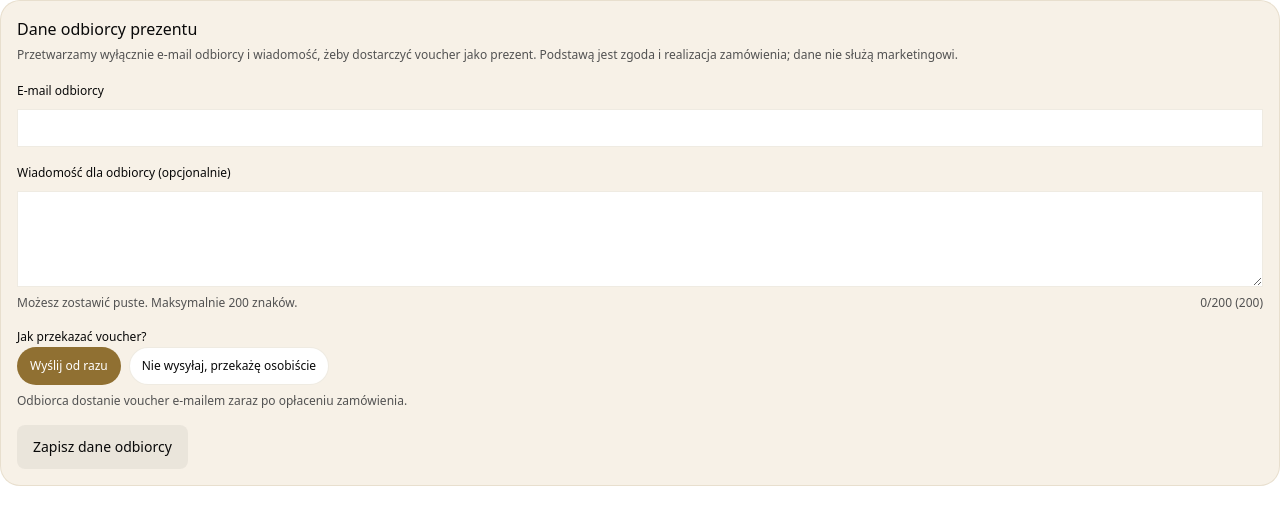
GiftRecipientForm — render (AC4) › switching to "handover" flips aria-pressed and the hint — copy never mentions a date
Click the button with test id "gift-recipient-send-handover" at (229, 366), box x1=129 y1=347 x2=329 y2=385
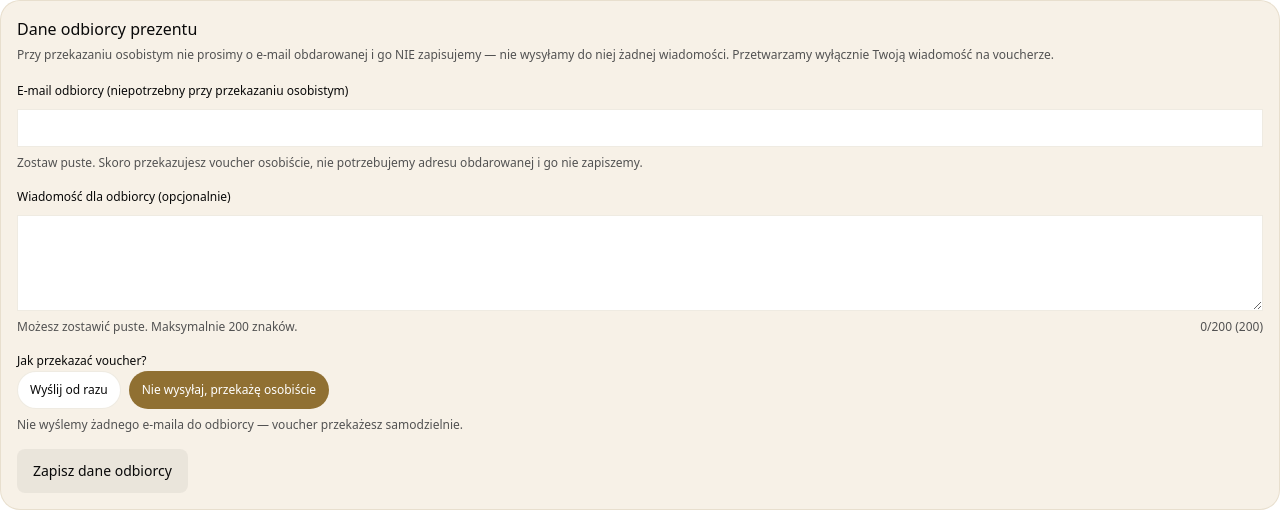
Result: the text with test id "gift-recipient-send-hint" reads "Nie wyślemy żadnego e-maila do odbiorcy — voucher przekażesz samodzielnie." at x1=17 y1=416 x2=463 y2=433
